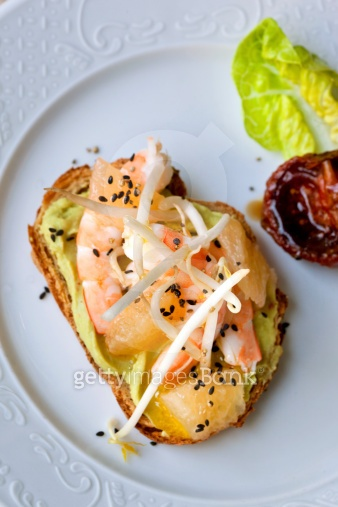slice of bread: (31, 146, 298, 463)
